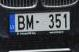1: (63, 12, 68, 29)
3: (48, 13, 55, 29)
5: (54, 13, 62, 29)
B: (17, 14, 25, 30)
M: (26, 14, 34, 30)
